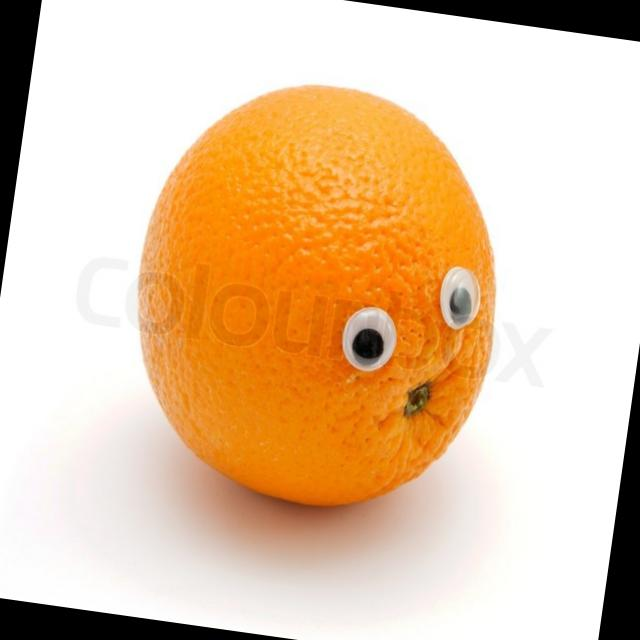orange: (105, 62, 540, 552)
